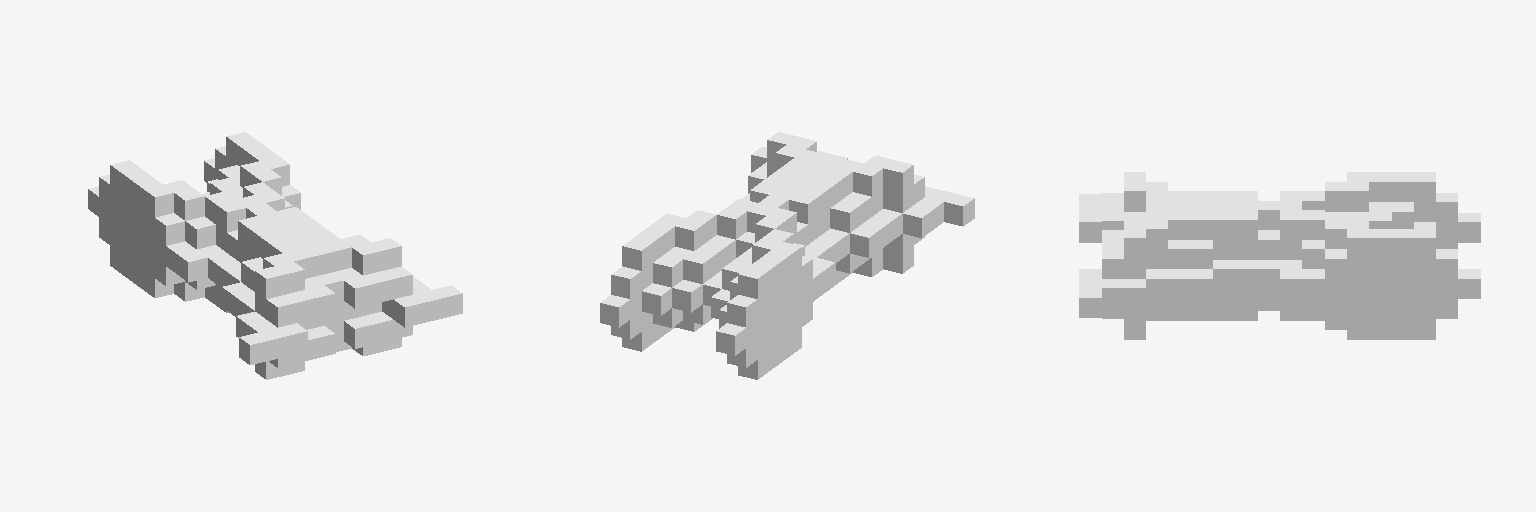
File: EnemyMedium.obj
The picture shows the model from 3 angles: view 1: azimuth 30°, elevation 25°; view 2: azimuth 150°, elevation 25°; view 3: azimuth 270°, elevation 25°; orthographic projection.
Visible parts, largest first — view 1: object 1; view 2: object 1; view 3: object 1.
Part boxes in pixels (x1,y1,x2,y2): object 1: (88,132,462,379); object 1: (600,132,974,379); object 1: (1079,172,1480,339).
Bounding box in the file's own units: 1.1 × 0.5 × 1.8.